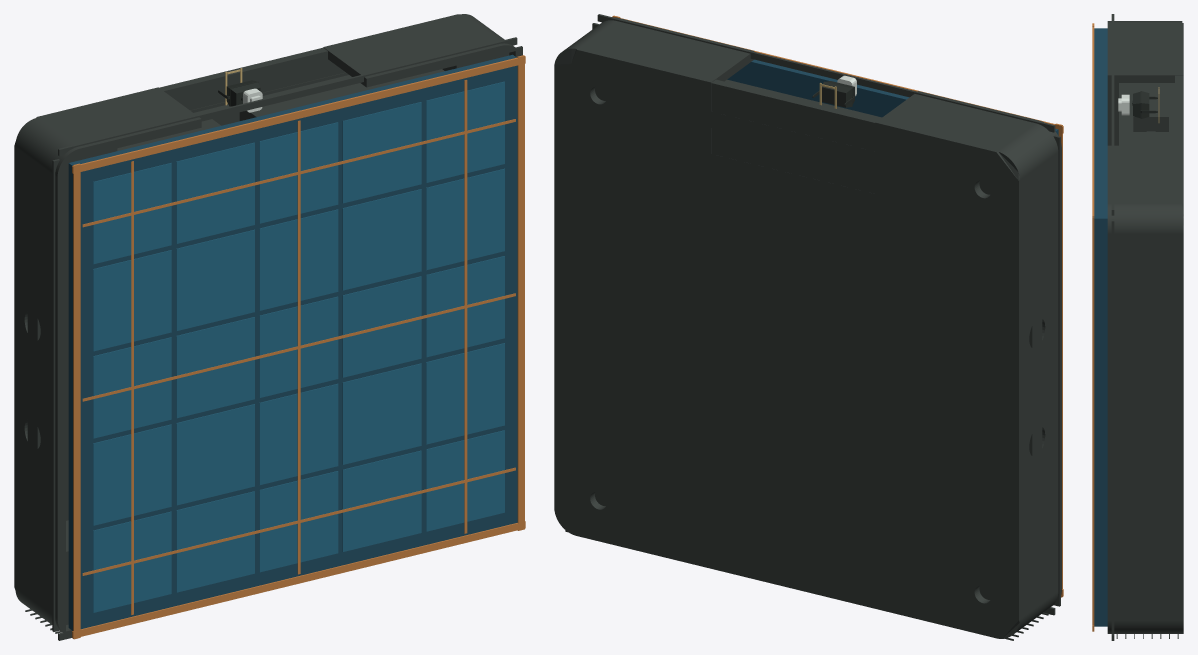
Rendered from flashlight-assembly.glb.
3 views of the same model, side by side, from view 1: azimuth 30°, elevation 25°; view 2: azimuth 150°, elevation 25°; view 3: azimuth 270°, elevation 25° (orthographic). The views are drawn at different scales.
Visible parts, largest first — view 1: solar_lid, enclosure, switch; view 2: enclosure, solar_lid, switch; view 3: enclosure, solar_lid, switch.
Boxes of the visible parts, x1=… form: solar_lid: x1=68, y1=54, x2=525, y2=639; enclosure: x1=14, y1=14, x2=522, y2=640; switch: x1=218, y1=68, x2=262, y2=112; enclosure: x1=554, y1=14, x2=1061, y2=640; solar_lid: x1=612, y1=15, x2=1063, y2=597; switch: x1=812, y1=75, x2=856, y2=108; enclosure: x1=1107, y1=14, x2=1183, y2=640; solar_lid: x1=1092, y1=23, x2=1107, y2=631; switch: x1=1118, y1=87, x2=1159, y2=122.
Bounding box in the file's own units: 0.0845 × 0.0876 × 0.0162.
